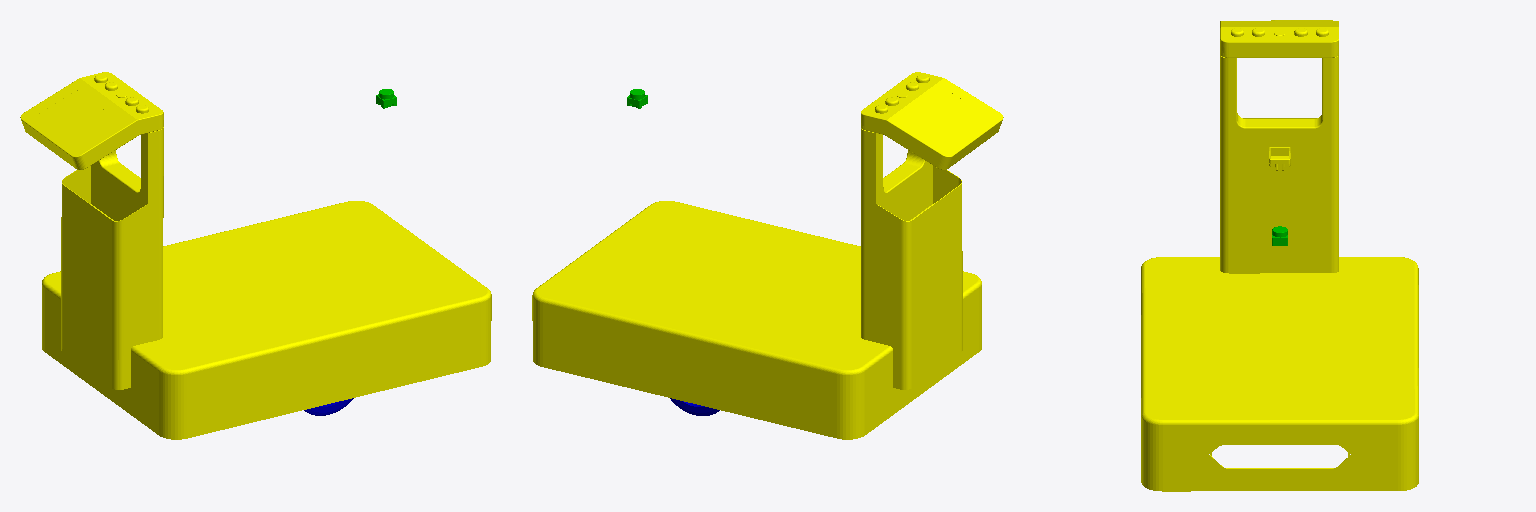
URDF robot description (DONKEYBOTI):
<?xml version="1.0" encoding="UTF-8"?>
<robot name="DONKEYBOTI" xmlns:xacro="http://www.ros.org/wiki/xacro">

    <material name="black">
        <color rgba="0.0 0.0 0.0 1.0"/>
    </material>

    <material name="dark">
        <color rgba="0.3 0.3 0.3 1.0"/>
    </material>

    <material name="light_black">
        <color rgba="0.4 0.4 0.4 1.0"/>
    </material>

    <material name="blue">
        <color rgba="0.0 0.0 0.8 1.0"/>
    </material>

    <material name="green">
        <color rgba="0.0 0.8 0.0 1.0"/>
    </material>

    <material name="grey">
        <color rgba="0.5 0.5 0.5 1.0"/>
    </material>

    <material name="orange">
        <color rgba="1.0 0.4235 0.0392 1.0"/>
    </material>

    <material name="brown">
        <color rgba="0.8706 0.8118 0.7647 1.0"/>
    </material>

    <material name="red">
        <color rgba="0.8 0.0 0.0 1.0"/>
    </material>

    <material name="white">
        <color rgba="1.0 1.0 1.0 1.0"/>
    </material>

    <material name="yellow">
        <color rgba="1.0 1.0 0.0 1.0"/>
    </material>

    <link name="base_footprint"/>

    <joint name="base_joint" type="fixed">
        <origin xyz="0.0 0.0 0.1005" rpy="0.0 0.0 0.0"/>
        <parent link="base_footprint"/>
        <child link="base_link"/>
    </joint>

    <link name="base_link">
        <visual>
            <origin xyz="0.942 0.326 -0.1005" rpy="1.57 0.0 -1.57"/>
            <geometry>
                <mesh filename="package://omorobot_description/meshes/bases/DONKEYBOTI_BODY.stl" scale="0.001 0.001 0.001"/>
            </geometry>
            <material name="yellow"/>
        </visual>
    </link>

    <joint name="wheel_left_joint" type="continuous">
        <origin xyz="0.0 0.283 0.0" rpy="-1.57 0.0 0.0"/>
        <parent link="base_link"/>
        <child link="wheel_left_link"/>
        <axis xyz="0.0 0.0 1.0"/>
    </joint>

    <link name="wheel_left_link">
        <visual>
            <origin xyz="-0.1005 -0.1005 0.0275" rpy="0.0 1.57 0.0"/>
            <geometry>
                <mesh filename="package://omorobot_description/meshes/wheels/DONKEYBOTI_WHEEL.stl" scale="0.001 0.001 0.001"/>
            </geometry>
            <material name="blue"/>
        </visual>
    </link>

    <joint name="wheel_right_joint" type="continuous">
        <origin xyz="0.0 -0.283 0.0" rpy="-1.57 0.0 0.0"/>
        <parent link="base_link"/>
        <child link="wheel_right_link"/>
        <axis xyz="0.0 0.0 1.0"/>
    </joint>

    <link name="wheel_right_link">
        <visual>
            <origin xyz="-0.1005 -0.1005 0.0275" rpy="0.0 1.57 0.0"/>
            <geometry>
                <mesh filename="package://omorobot_description/meshes/wheels/DONKEYBOTI_WHEEL.stl" scale="0.001 0.001 0.001"/>
            </geometry>
            <material name="blue"/>
        </visual>
    </link>

    <joint name="imu_joint" type="fixed">
        <origin xyz="0.0 0.0 0.0" rpy="0.0 0.0 1.57"/>
        <parent link="base_link"/>
        <child link="imu_link"/>
    </joint>

    <link name="imu_link">
    </link>

    <joint name="scan_joint" type="fixed">
        <origin xyz="0.335 0.0 0.5295" rpy="0.0 0.0 0.0"/>
        <parent link="base_link"/>
        <child link="base_scan"/>
        <axis xyz="0.0 0.0 0.0"/>
    </joint>

    <link name="base_scan">
        <visual>
            <origin xyz="0.02 -0.02 0.0" rpy="0.0 0.0 1.57"/>
            <geometry>
                <mesh filename="package://omorobot_description/meshes/sensors/TMINIPRO.stl" scale="0.001 0.001 0.001"/>
            </geometry>
            <material name="green"/>
        </visual>
    </link>
</robot>

--- Render facts (derived) ---
The picture shows the robot from 3 angles, left to right: view 1: azimuth 30°, elevation 25°; view 2: azimuth 150°, elevation 25°; view 3: azimuth 270°, elevation 25°; orthographic projection.
Model DONKEYBOTI with 6 links and 5 joints (2 continuous, 3 fixed), rooted at base_footprint, posed every joint at zero.
Links seen in each view (by area): view 1: base_link; view 2: base_link; view 3: base_link.
Boxes of the visible links, bbox=[...] form: base_link: bbox=[20, 72, 491, 439]; base_link: bbox=[532, 72, 1003, 439]; base_link: bbox=[1141, 20, 1418, 491].
Size in the robot's own frame: 1.08 by 0.6527 by 0.8354 metres.
4 mesh visuals loaded from 3 distinct referenced files (3 binary STL).